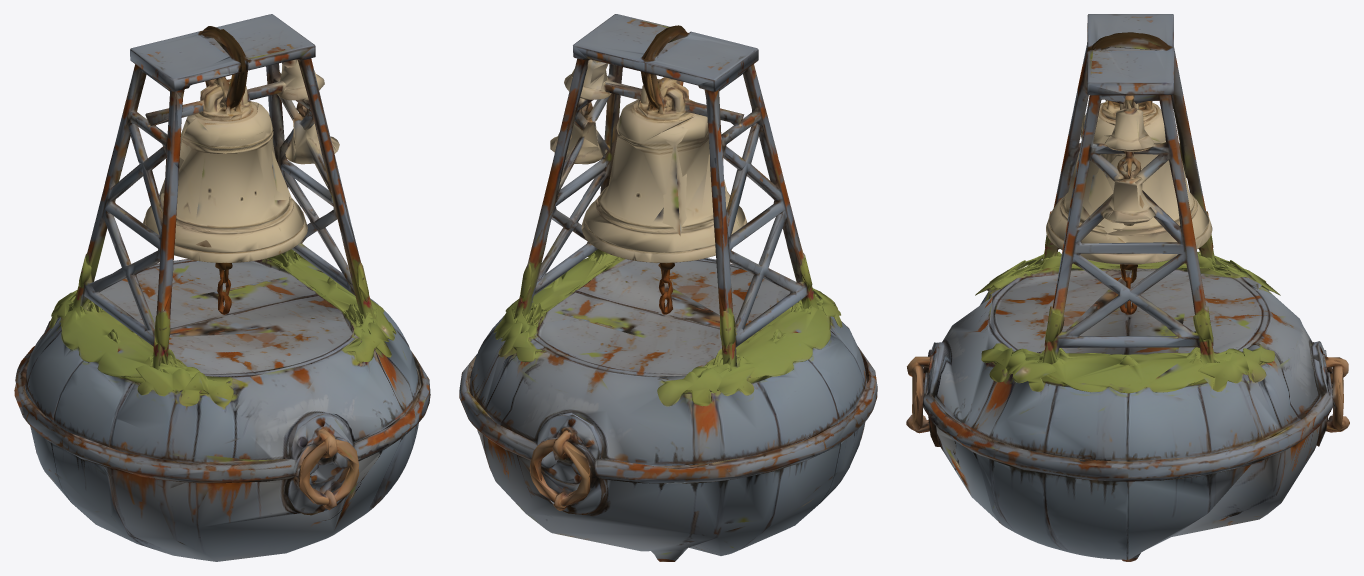
File: lhi_bell_buoy.glb
The picture shows the model from 3 angles, left to right: view 1: azimuth 30°, elevation 25°; view 2: azimuth 150°, elevation 25°; view 3: azimuth 270°, elevation 25°; orthographic projection.
Visible parts, largest first — view 1: material; view 2: material; view 3: material.
Part boxes in pixels (x1,y1,x2,y2): material: (14, 14, 430, 561); material: (459, 14, 877, 561); material: (906, 14, 1349, 561).
Size of the model in its own units: 0.8559 by 1.2 by 0.9165.
Materials: 1 (1 with a texture image).
